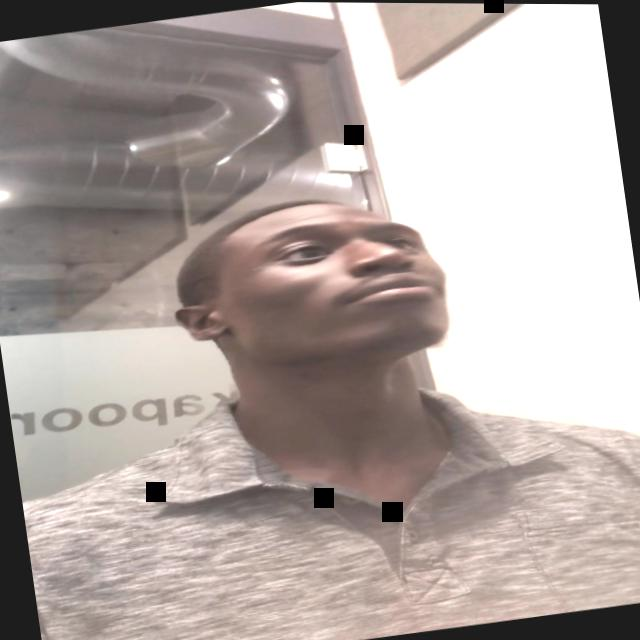NO-Mask: (191, 191, 458, 382)
